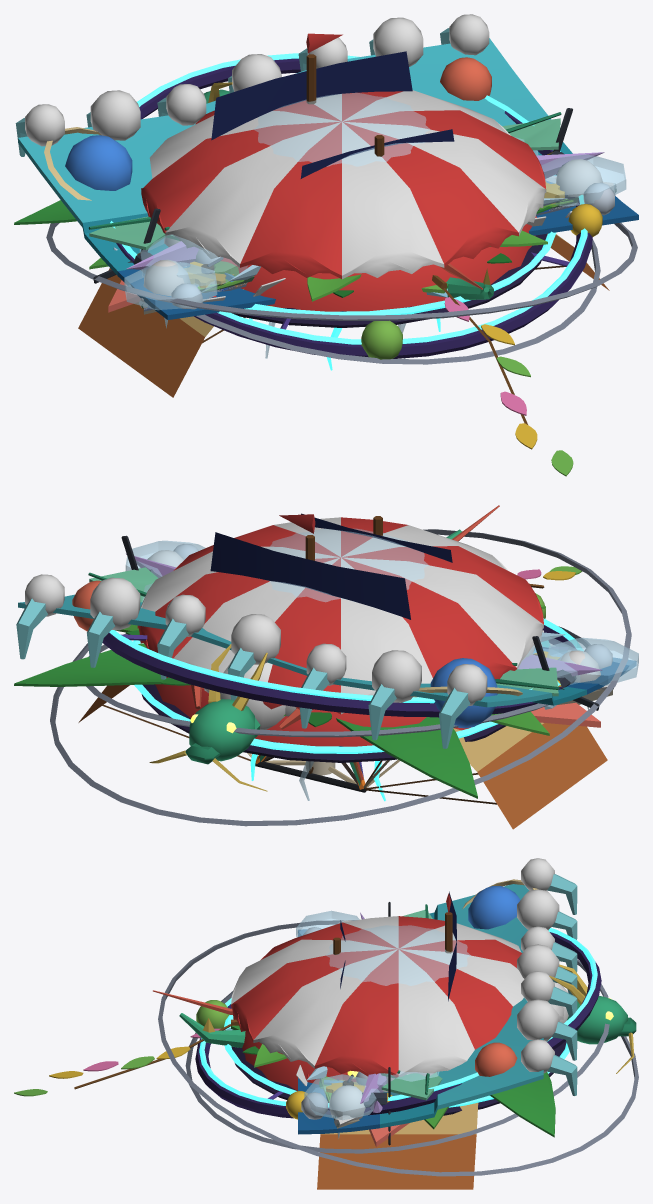
Rendered from cosm250_deltaplanes_v001.glb.
The picture shows the model from 3 angles, top to bottom: view 1: azimuth 30°, elevation 25°; view 2: azimuth 150°, elevation 25°; view 3: azimuth 270°, elevation 25°; orthographic projection. The views are drawn at different scales.
Parts seen in each view (by area): view 1: deltaplane_phare_volant, deltaplane_vague_suspendue, deltaplane_orbite_mobile, deltaplane_disque_cosmique, deltaplane_meduse_des_abysses, deltaplane_brume_portee, deltaplane_navire_des_etoiles, deltaplane_voile_du_desert, deltaplane_parapluie_champignon, deltaplane_dragon_de_jade, deltaplane_voile_des_nuages, deltaplane_cerf_volant_botanique (+5 smaller); view 2: deltaplane_phare_volant, deltaplane_vague_suspendue, deltaplane_disque_cosmique, deltaplane_orbite_mobile, deltaplane_voile_du_desert, deltaplane_navire_des_etoiles, deltaplane_aile_sylvestre, deltaplane_dragon_de_jade, deltaplane_meduse_des_abysses, deltaplane_brume_portee, deltaplane_parapluie_champignon, deltaplane_voile_des_nuages (+5 smaller); view 3: deltaplane_phare_volant, deltaplane_vague_suspendue, deltaplane_voile_du_desert, deltaplane_orbite_mobile, deltaplane_disque_cosmique, deltaplane_meduse_des_abysses, deltaplane_dragon_de_jade, deltaplane_brume_portee, deltaplane_aile_sylvestre, deltaplane_voile_des_nuages, deltaplane_cerf_volant_botanique, deltaplane_parapluie_champignon (+3 smaller).
Boxes of the visible parts, x1,y1,x2,y2 form: deltaplane_phare_volant: (141,90,546,279); deltaplane_vague_suspendue: (15,14,638,319); deltaplane_orbite_mobile: (44,53,602,359); deltaplane_disque_cosmique: (46,222,637,364); deltaplane_meduse_des_abysses: (249,92,440,370); deltaplane_brume_portee: (124,137,626,310); deltaplane_navire_des_etoiles: (211,33,454,178); deltaplane_voile_du_desert: (78,233,609,397); deltaplane_parapluie_champignon: (221,224,535,311); deltaplane_dragon_de_jade: (88,82,561,299); deltaplane_voile_des_nuages: (143,159,614,309); deltaplane_cerf_volant_botanique: (333,206,573,476); deltaplane_phare_volant: (137,517,543,785); deltaplane_vague_suspendue: (16,574,636,772); deltaplane_disque_cosmique: (50,529,631,826); deltaplane_orbite_mobile: (72,580,583,777); deltaplane_voile_du_desert: (78,685,607,829); deltaplane_navire_des_etoiles: (210,513,452,619); deltaplane_aile_sylvestre: (14,605,549,798); deltaplane_dragon_de_jade: (88,529,559,791); deltaplane_meduse_des_abysses: (250,528,433,801); deltaplane_brume_portee: (125,540,638,685); deltaplane_parapluie_champignon: (155,677,470,784); deltaplane_voile_des_nuages: (147,544,612,729); deltaplane_phare_volant: (231,916,564,1077); deltaplane_vague_suspendue: (298,858,577,1134); deltaplane_voile_du_desert: (317,1102,478,1189); deltaplane_orbite_mobile: (195,879,601,1119); deltaplane_disque_cosmique: (158,920,638,1176); deltaplane_meduse_des_abysses: (326,925,470,985); deltaplane_dragon_de_jade: (179,904,636,1100); deltaplane_brume_portee: (296,910,438,1125); deltaplane_aile_sylvestre: (254,1044,555,1137); deltaplane_voile_des_nuages: (301,920,568,1120); deltaplane_cerf_volant_botanique: (14,1019,322,1096); deltaplane_parapluie_champignon: (242,1032,355,1090).
Size of the model in its own units: 4.34 by 2.24 by 5.6.
